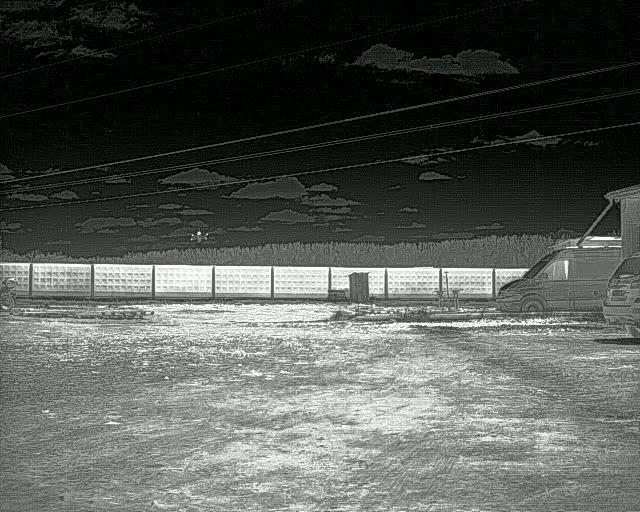drone-thermal: (188, 228, 211, 244)
